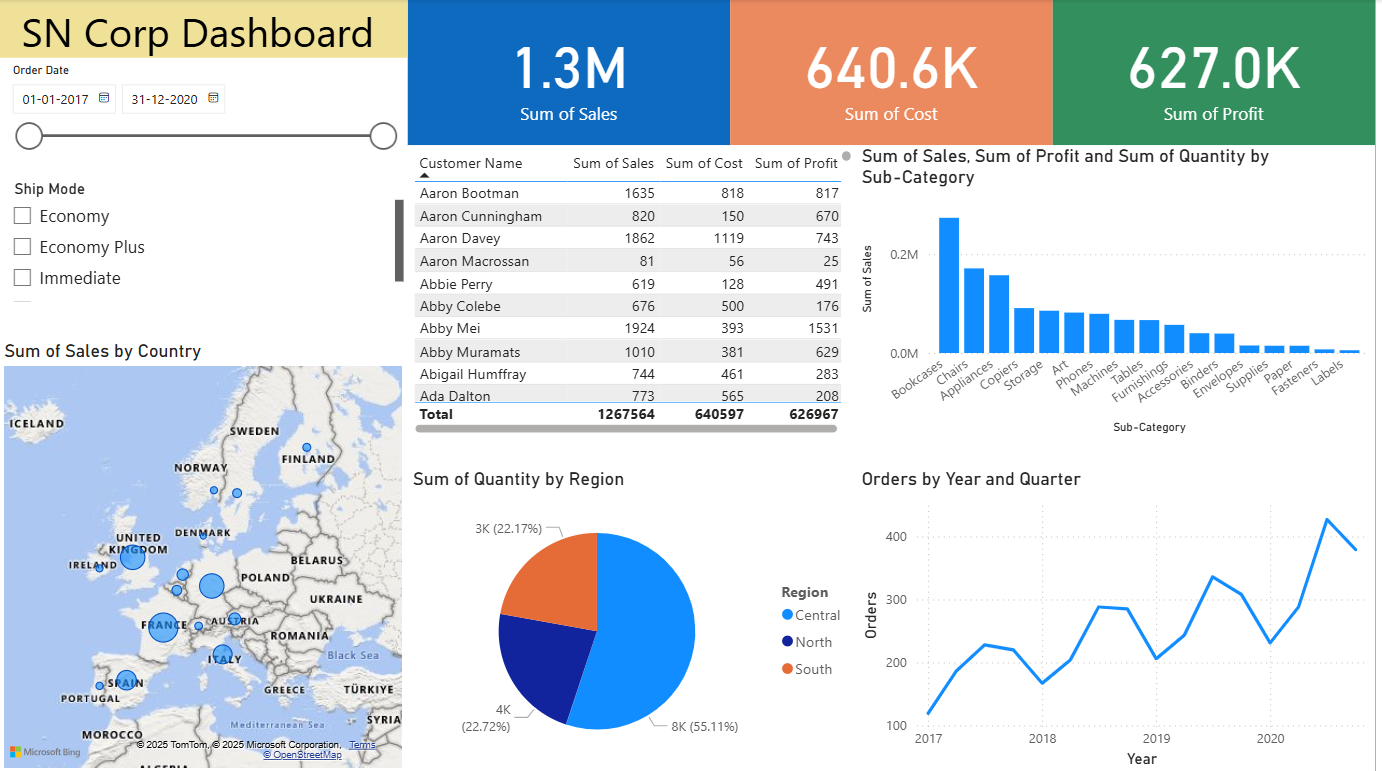

Layout of this report page (visuals, bound fields, positions):
{"tool":"powerbi","page":{"name":"Page 1","canvas":[1280,720],"ordinal":0},"visuals":[{"type":"card","fields":{"Values":["List of Orders.Sales"]},"box":[380.2,0,300,136],"z":0},{"type":"card","fields":{"Values":["List of Orders.Cost"]},"box":[680.2,0,300,136],"z":1000},{"type":"card","fields":{"Values":["List of Orders.Profit"]},"box":[980.2,0,300,136],"z":2000},{"type":"tableEx","fields":{"Values":["List of Orders.Customer Name","List of Orders.Sales","List of Orders.Cost","List of Orders.Profit"]},"box":[380.2,136,417.4,273.3],"z":3000},{"type":"clusteredColumnChart","fields":{"Category":["List of Orders.Sub-Category"],"Y":["List of Orders.Sales"]},"box":[797.7,136,482.6,273.3],"z":4000},{"type":"lineChart","fields":{"Y":["List of Orders.Order ID"],"Category":["List of Orders.Order Date.Variation.Date Hierarchy.Year","List of Orders.Order Date.Variation.Date Hierarchy.Quarter"]},"box":[797.7,436,482.6,283.7],"z":5000},{"type":"pieChart","fields":{"Y":["List of Orders.Quantity"],"Category":["List of Orders.Region"]},"box":[380.2,436,417.4,283.7],"z":6000},{"type":"map","fields":{"Category":["List of Orders.Country"],"Size":["List of Orders.Sales"]},"box":[0,317.4,380.2,402.3],"z":7000},{"type":"textbox","box":[0,0,380.2,68.6],"z":8000},{"type":"slicer","fields":{"Values":["List of Orders.Ship Mode"]},"box":[1.2,162.8,380.2,123.3],"z":9000},{"type":"slicer","fields":{"Values":["List of Orders.Order Date"]},"box":[0,54.7,379.1,94.2],"z":10000}]}

Visuals, with their boxes in screenshot pixels (x1, y1, x2, y2), scaled from the page's 1280x720 canvas onto the 1382x771 screenshot:
card - List of Orders.Sales: [x1=410, y1=0, x2=734, y2=146]
card - List of Orders.Cost: [x1=734, y1=0, x2=1058, y2=146]
card - List of Orders.Profit: [x1=1058, y1=0, x2=1381, y2=146]
tableEx - List of Orders.Customer Name x List of Orders.Sales: [x1=410, y1=146, x2=861, y2=438]
clusteredColumnChart - List of Orders.Sub-Category x List of Orders.Sales: [x1=861, y1=146, x2=1381, y2=438]
lineChart - List of Orders.Order ID x List of Orders.Order Date.Variation.Date Hierarchy.Year: [x1=861, y1=467, x2=1381, y2=770]
pieChart - List of Orders.Quantity x List of Orders.Region: [x1=410, y1=467, x2=861, y2=770]
map - List of Orders.Country x List of Orders.Sales: [x1=0, y1=340, x2=410, y2=770]
textbox: [x1=0, y1=0, x2=410, y2=73]
slicer - List of Orders.Ship Mode: [x1=1, y1=174, x2=412, y2=306]
slicer - List of Orders.Order Date: [x1=0, y1=59, x2=409, y2=159]
